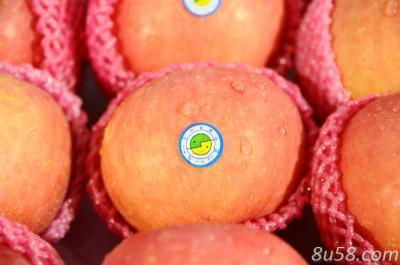apple: (96, 65, 310, 226), (1, 70, 71, 234)
